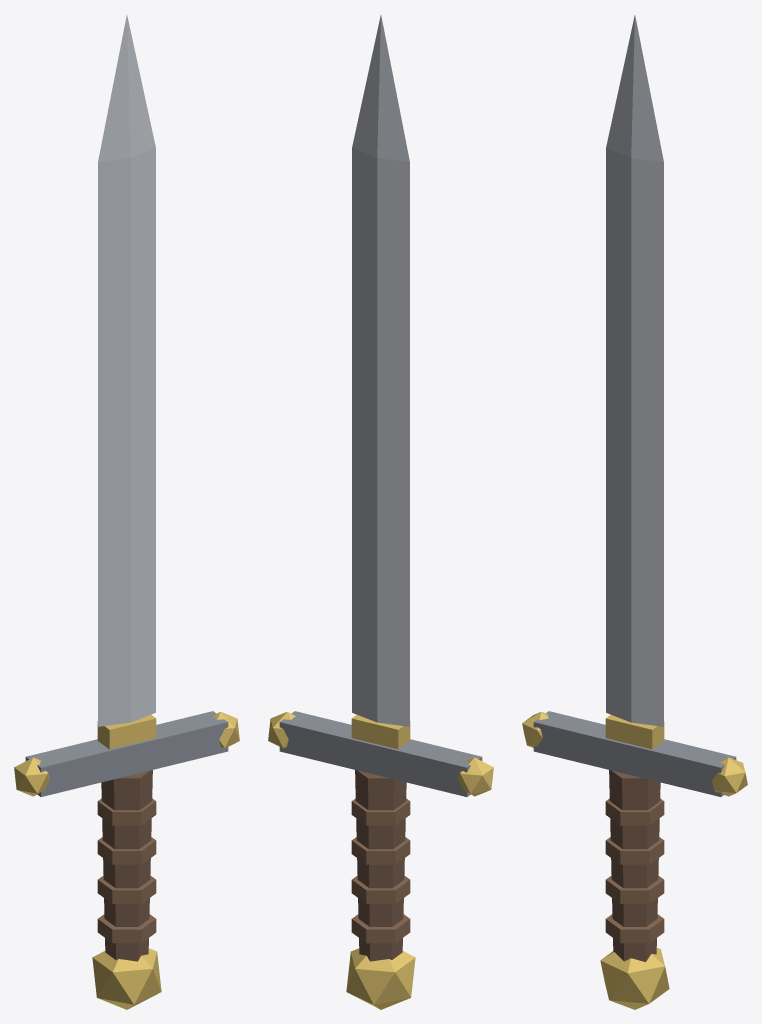
The model's file is Weapon_Sword.glb.
3 renders of one model, left to right at view 1: azimuth 30°, elevation 25°; view 2: azimuth 150°, elevation 25°; view 3: azimuth 330°, elevation 25°, orthographic.
Parts seen in each view (by area): view 1: Sword; view 2: Sword; view 3: Sword.
Part boxes in pixels (x1,y1,x2,y2): Sword: (14,15,239,1009); Sword: (268,15,493,1009); Sword: (522,15,747,1009).
Size of the model in its own units: 0.2358 by 1.02 by 0.0612.
